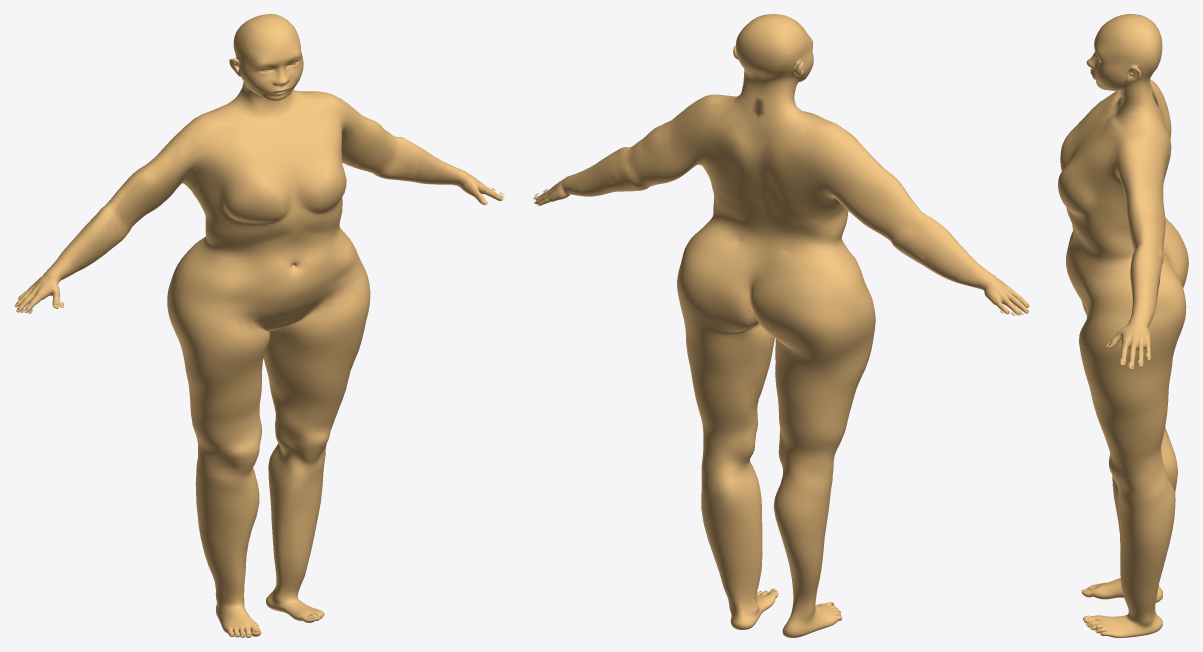
File: female_XXL_2.glb
The picture shows the model from 3 angles, left to right: view 1: azimuth 30°, elevation 25°; view 2: azimuth 150°, elevation 25°; view 3: azimuth 270°, elevation 25°; orthographic projection.
Visible parts, largest first — view 1: Body; view 2: Body; view 3: Body.
Part boxes in pixels (x1,y1,x2,y2): Body: (14,14,503,637); Body: (534,14,1029,637); Body: (1058,14,1188,637).
Bounding box in the file's own units: 1.59 × 1.88 × 0.3691.
